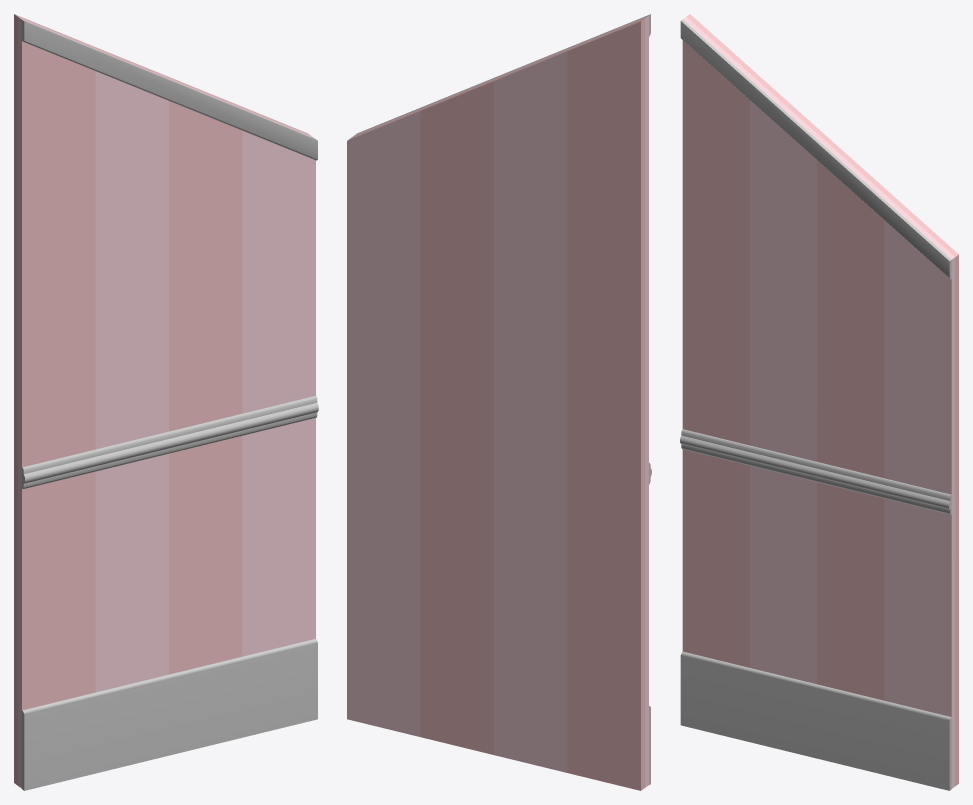
The model's file is Wall_Interior_Angled_4.fbx.
3 renders of one model, left to right at view 1: azimuth 30°, elevation 25°; view 2: azimuth 150°, elevation 25°; view 3: azimuth 330°, elevation 25°, orthographic. The views are drawn at different scales.
Parts seen in each view (by area): view 1: Wall_Interior_Angled; view 2: Wall_Interior_Angled; view 3: Wall_Interior_Angled.
Part boxes in pixels (left/top/right/bottom): Wall_Interior_Angled: left=14, top=14, right=318, bottom=790; Wall_Interior_Angled: left=347, top=14, right=651, bottom=790; Wall_Interior_Angled: left=680, top=14, right=958, bottom=790.
Size of the model in its own units: 1 by 2.5 by 0.0649.
